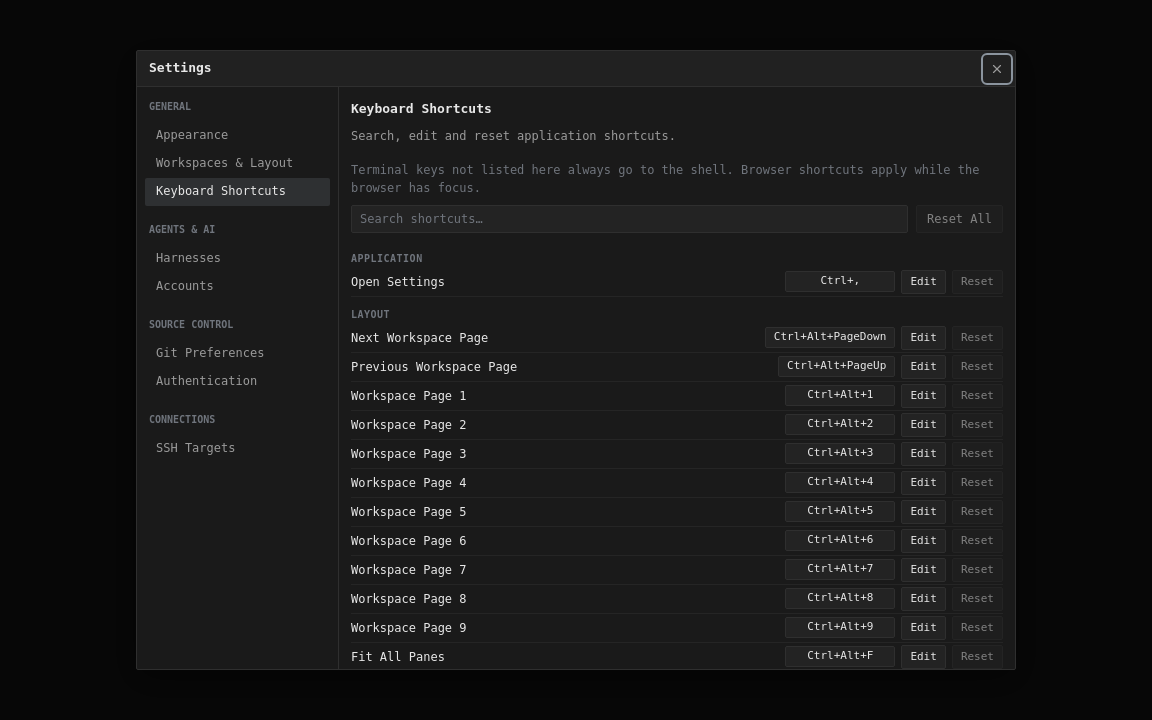
Test case: Keyboard Shortcuts in Settings › filters by label, category and binding
The image size is (1152, 720).
Type "zoom" into the search field labelled "Search shortcuts". click: {"x": 629, "y": 218}
box: [351, 204, 908, 232]
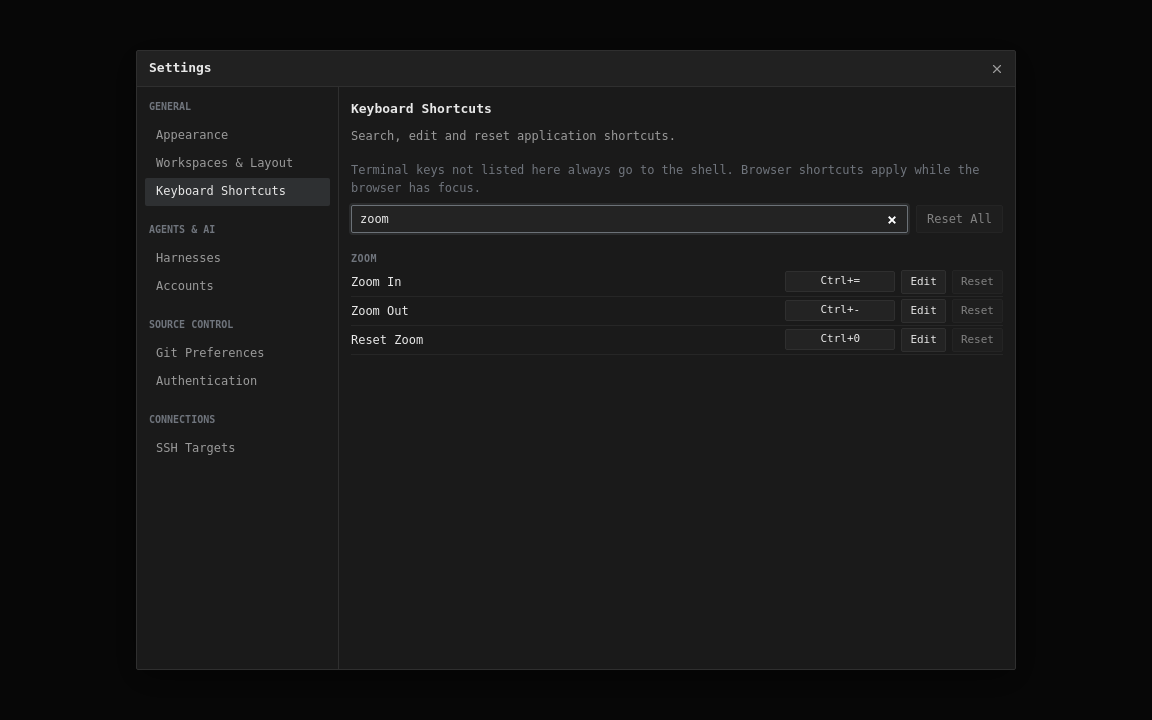
Check: the text "Save File" is not shown
Check: the text "Zoom In" is shown, box [351, 274, 402, 288]
Replace the text in the search field named "Search shortcuts" with "Ctrl+S". click: {"x": 629, "y": 218}
box: [351, 204, 908, 232]
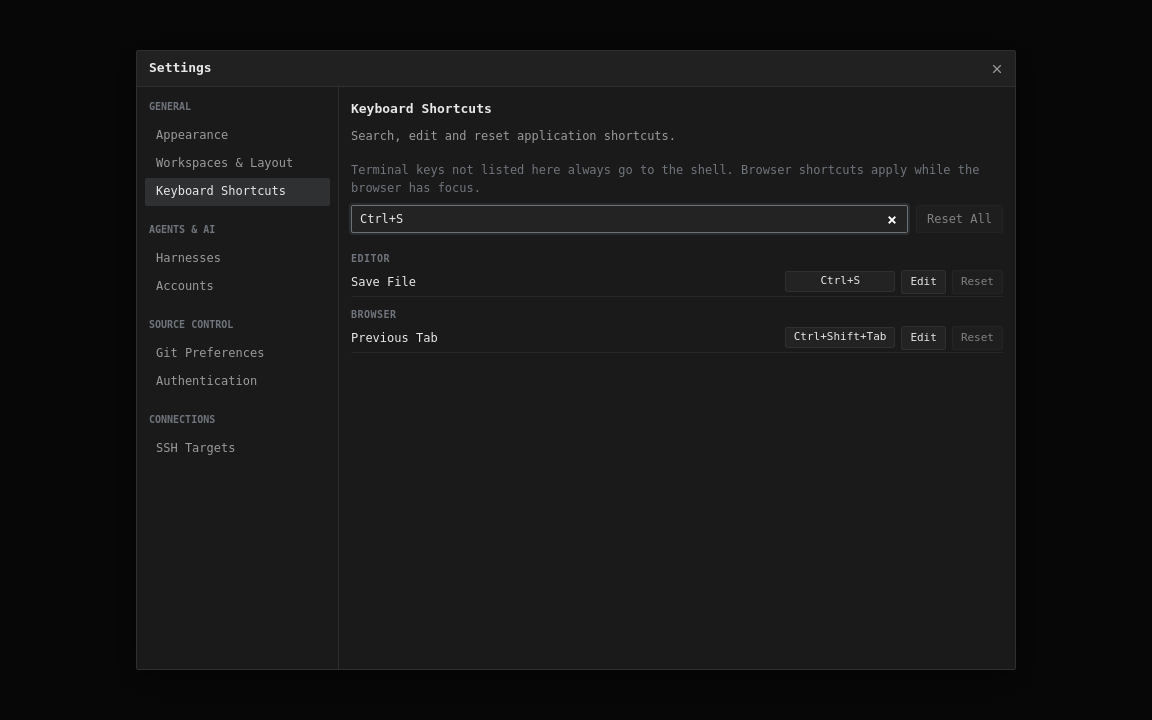
Check: the text "Zoom In" is not shown
Check: the text "Save File" is shown, box [351, 274, 416, 288]
Replace the text in the search field named "Search shortcuts" with "nonsense-xyz". click: {"x": 629, "y": 218}
box: [351, 204, 908, 232]
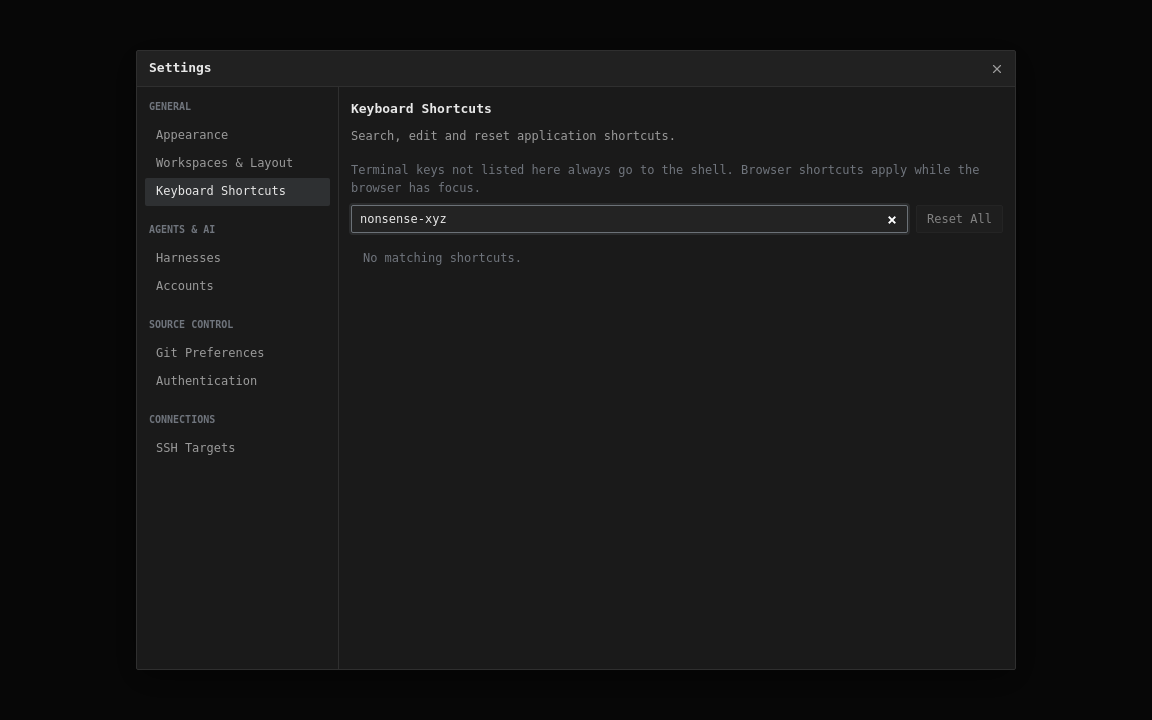
Check: the text "No matching shortcuts." is shown, box [363, 250, 522, 264]
